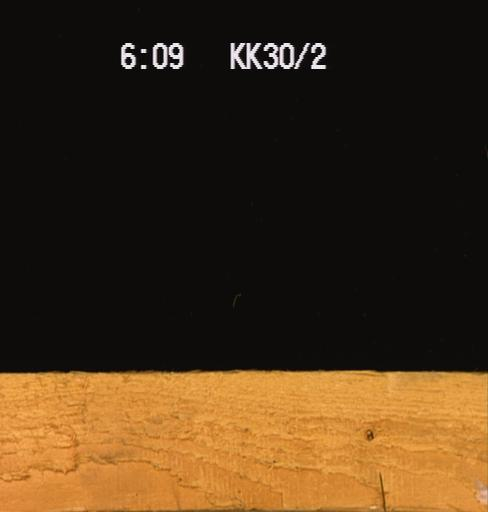dry_knot: (364, 426, 374, 441)
